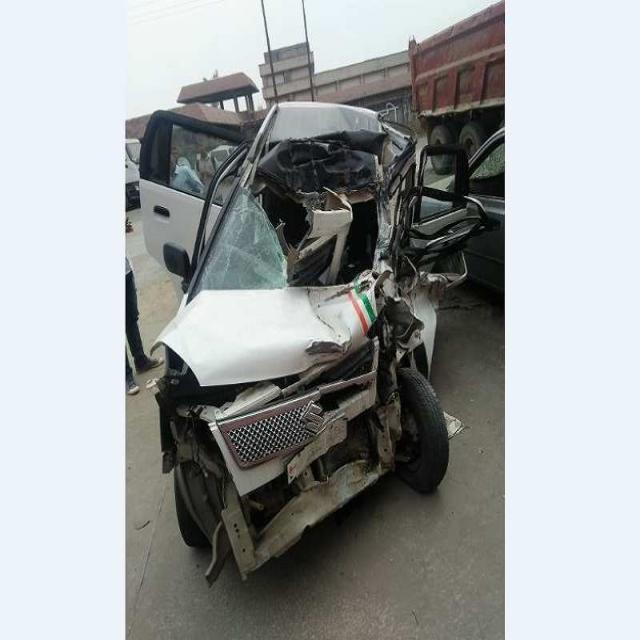accident: (140, 103, 486, 581)
truck: (409, 2, 504, 154)
